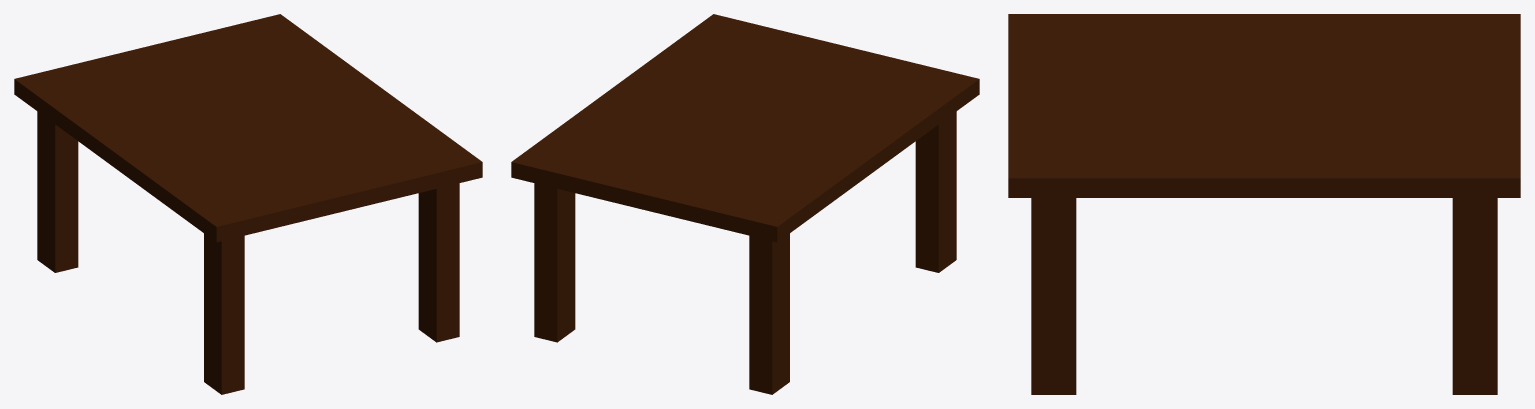
Rendered from Model_table.fbx.
3 renders of one model, left to right at view 1: azimuth 30°, elevation 25°; view 2: azimuth 150°, elevation 25°; view 3: azimuth 270°, elevation 25°, orthographic. The views are drawn at different scales.
Visible parts, largest first — view 1: Workbench.001; view 2: Workbench.001; view 3: Workbench.001.
Part boxes in pixels (x1,y1,x2,y2): Workbench.001: (14, 14, 482, 394); Workbench.001: (511, 14, 979, 394); Workbench.001: (1008, 14, 1520, 394).
Size of the model in its own units: 224 by 143 by 295.
